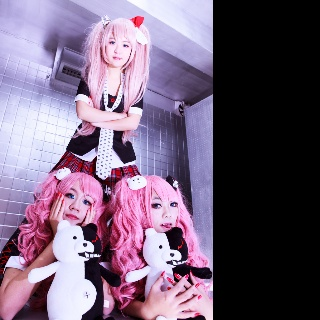without_mask: (62, 180, 94, 226), (151, 187, 179, 232), (105, 30, 132, 67)
